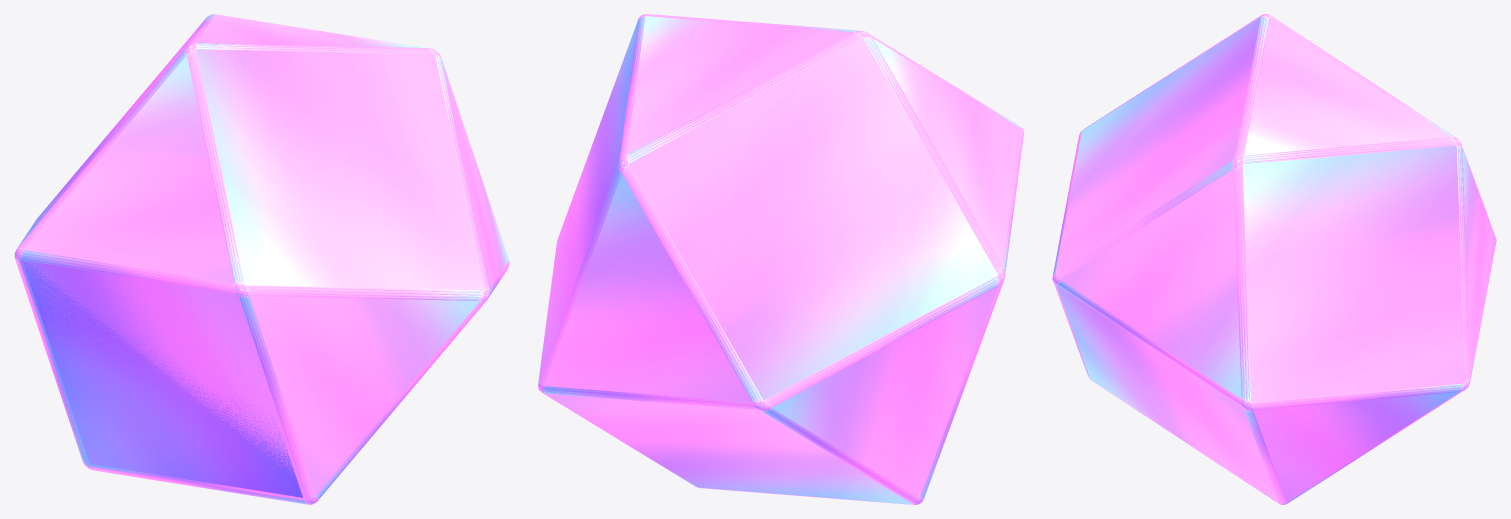
Rendered from polygon.glb.
3 views of the same model, side by side, from view 1: azimuth 30°, elevation 25°; view 2: azimuth 150°, elevation 25°; view 3: azimuth 270°, elevation 25° (orthographic). The views are drawn at different scales.
Parts seen in each view (by area): view 1: Abstract_shape, Abstract_shape_4; view 2: Abstract_shape; view 3: Abstract_shape.
Boxes of the visible parts, x1=… form: Abstract_shape: x1=14, y1=14, x2=509, y2=504; Abstract_shape_4: x1=23, y1=262, x2=302, y2=497; Abstract_shape: x1=538, y1=14, x2=1023, y2=504; Abstract_shape: x1=1052, y1=14, x2=1496, y2=504.
Size of the model in its own units: 2.43 by 2.37 by 2.24.
Materials: 2 (2 with a texture image).
